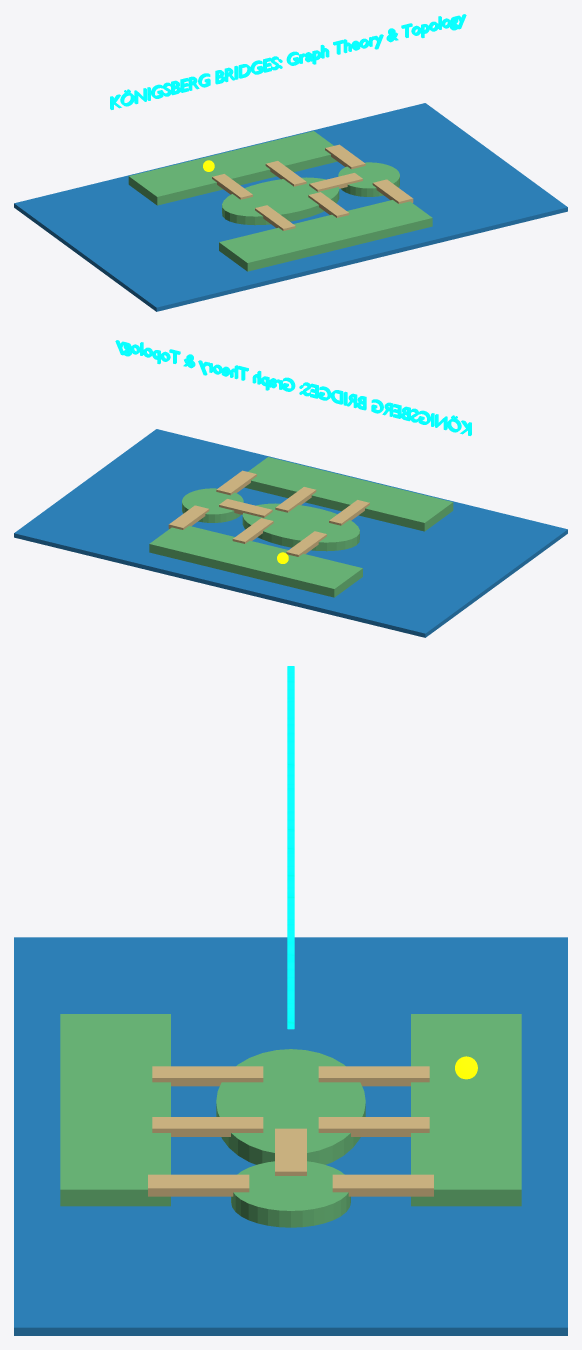
File: konigsberg_bridge.glb
3 views of the same model, one above another, from view 1: azimuth 30°, elevation 25°; view 2: azimuth 150°, elevation 25°; view 3: azimuth 270°, elevation 25° (orthographic). The views are drawn at different scales.
Visible parts, largest first — view 1: Pregel_River_Water, South_Bank, North_Bank, Text, Kneiphof_Island, Lomse_East_Island, Bridge_5, Bridge_7, Bridge_6, Bridge_1, Bridge_3, Bridge_2 (+1 smaller); view 2: Pregel_River_Water, North_Bank, South_Bank, Text, Kneiphof_Island, Lomse_East_Island, Bridge_5, Bridge_6, Bridge_7, Bridge_3, Bridge_1, Bridge_2 (+1 smaller); view 3: Pregel_River_Water, South_Bank, North_Bank, Kneiphof_Island, Lomse_East_Island, Text, Bridge_6, Bridge_7, Bridge_1, Bridge_3, Bridge_2, Bridge_4 (+1 smaller).
Part boxes in pixels (box(x1,y1,x2,y2)): Pregel_River_Water: box(14, 103, 567, 311); South_Bank: box(219, 200, 432, 271); North_Bank: box(128, 131, 337, 205); Text: box(110, 14, 466, 109); Kneiphof_Island: box(222, 177, 339, 225); Lomse_East_Island: box(338, 162, 399, 196); Bridge_5: box(309, 173, 362, 191); Bridge_7: box(372, 179, 413, 203); Bridge_6: box(325, 144, 365, 169); Bridge_1: box(212, 174, 252, 199); Bridge_3: box(255, 205, 295, 230); Bridge_2: box(265, 161, 306, 186); Pregel_River_Water: box(14, 429, 567, 637); North_Bank: box(149, 526, 362, 597); South_Bank: box(244, 457, 453, 531); Text: box(115, 340, 471, 435); Kneiphof_Island: box(242, 503, 359, 551); Lomse_East_Island: box(182, 488, 243, 522); Bridge_5: box(219, 499, 272, 517); Bridge_6: box(168, 505, 209, 529); Bridge_7: box(216, 470, 256, 495); Bridge_3: box(329, 500, 369, 525); Bridge_1: box(286, 531, 326, 556); Bridge_2: box(232, 518, 273, 543); Pregel_River_Water: box(14, 937, 567, 1335); South_Bank: box(60, 1014, 170, 1206); North_Bank: box(411, 1014, 521, 1206); Kneiphof_Island: box(216, 1049, 365, 1164); Lomse_East_Island: box(231, 1161, 350, 1227); Text: box(287, 666, 294, 1029); Bridge_6: box(332, 1174, 433, 1196); Bridge_7: box(148, 1174, 249, 1196); Bridge_1: box(318, 1066, 429, 1086); Bridge_3: box(152, 1066, 263, 1086); Bridge_2: box(318, 1117, 429, 1136); Bridge_4: box(152, 1117, 263, 1136).
Size of the model in its own units: 20 by 7.39 by 12.
